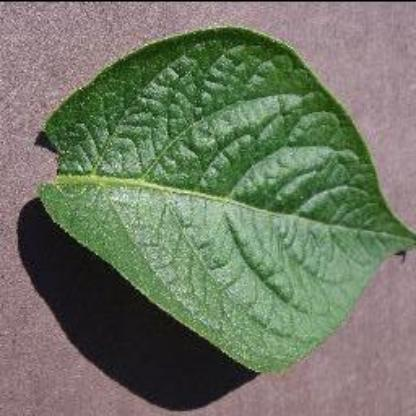Healthy-plant: (28, 26, 416, 376)
